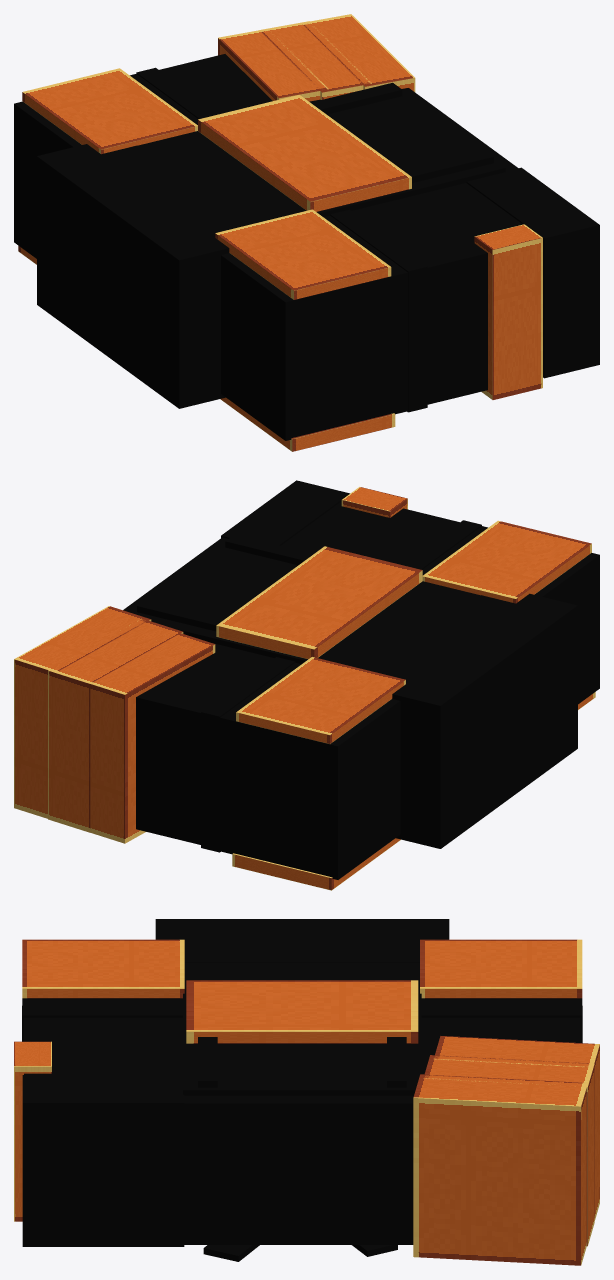
Rendered from bench_chestplate_5_hot.obj.
The picture shows the model from 3 angles, top to bottom: view 1: azimuth 30°, elevation 25°; view 2: azimuth 150°, elevation 25°; view 3: azimuth 270°, elevation 25°; orthographic projection. The views are drawn at different scales.
Visible parts, largest first — view 1: geometry; view 2: geometry; view 3: geometry.
Part boxes in pixels (x1,y1,x2,y2): geometry: [14, 14, 599, 451]; geometry: [14, 480, 599, 890]; geometry: [14, 919, 599, 1265].
Bounding box in the file's own units: 0.5685 × 0.25 × 0.7392.
